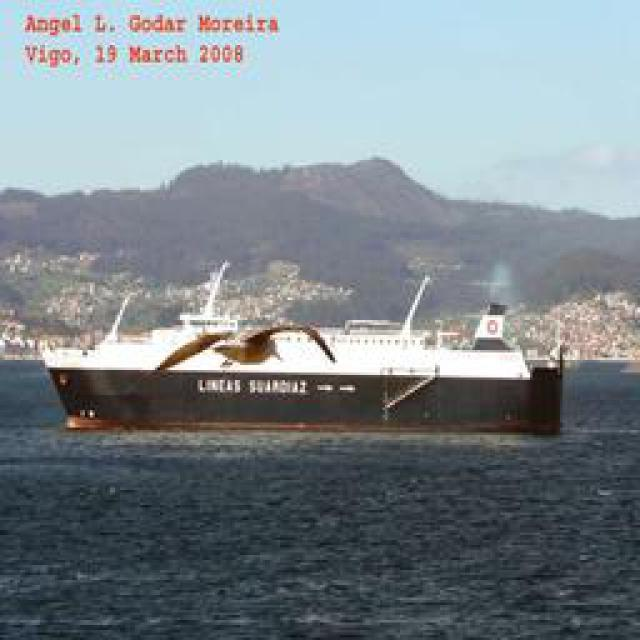Ship: (37, 265, 575, 435)
